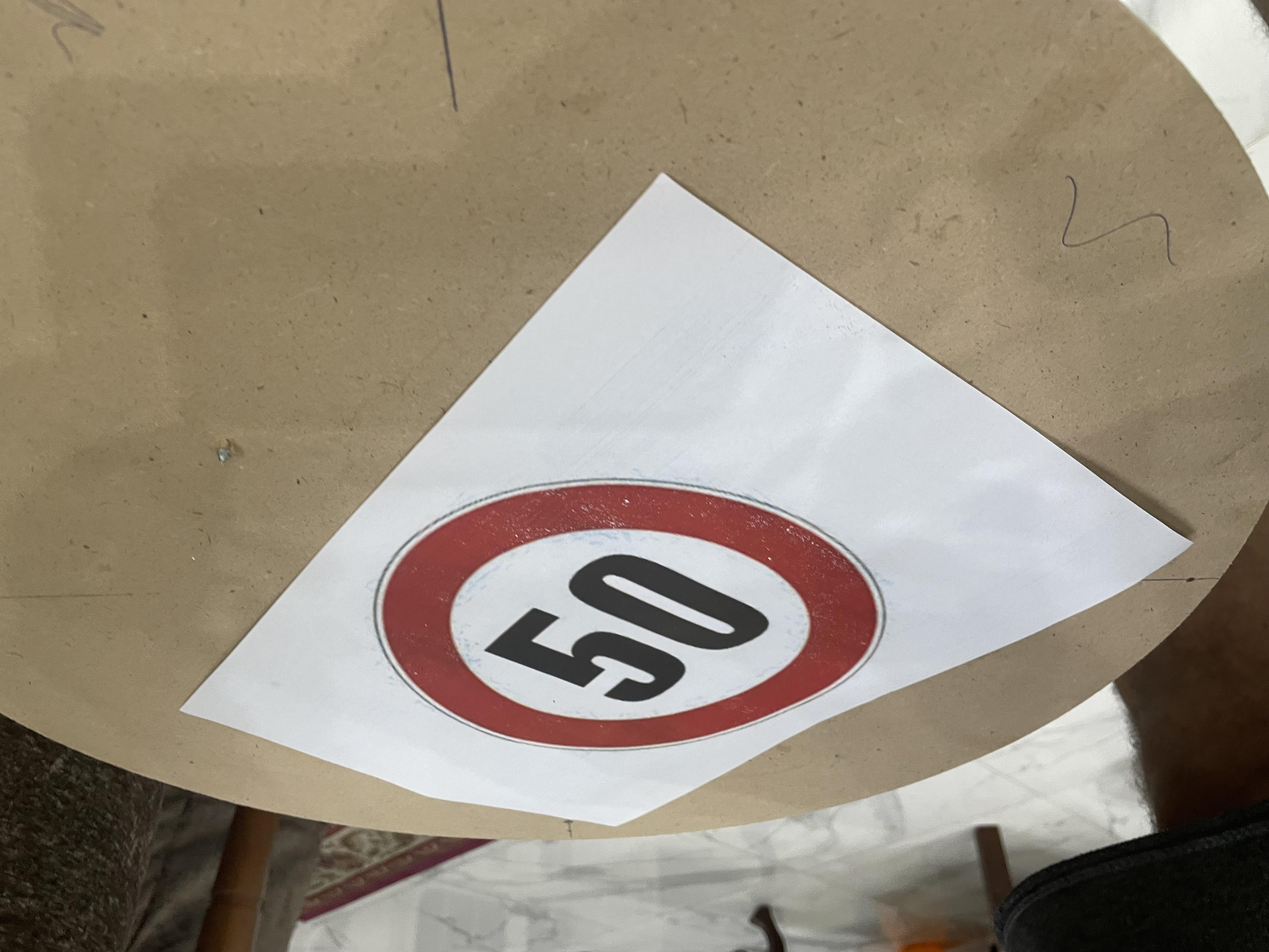50-Speed: (380, 183, 907, 485)
